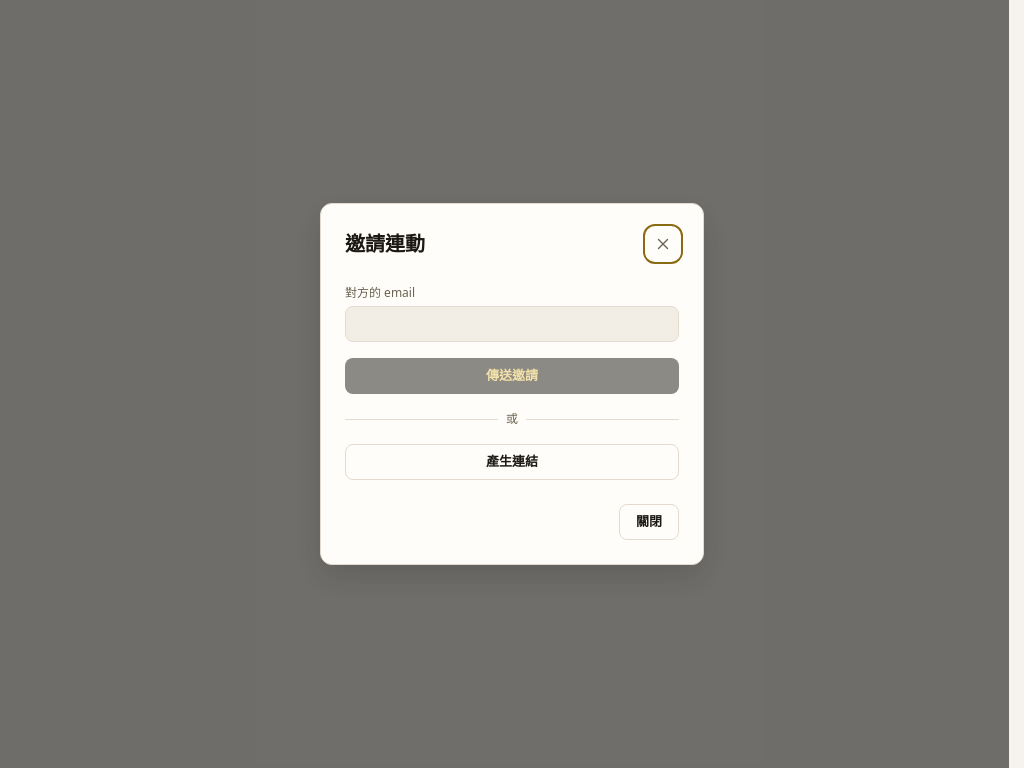
Test: InviteDialog › uses the link-invite wording for USER_NOT_FOUND
The width and height of the screenshot is (1024, 768).
Step 1. Type "missing@example.com" into the field labelled "對方的 email" → (512, 324), box [345,306,679,342]
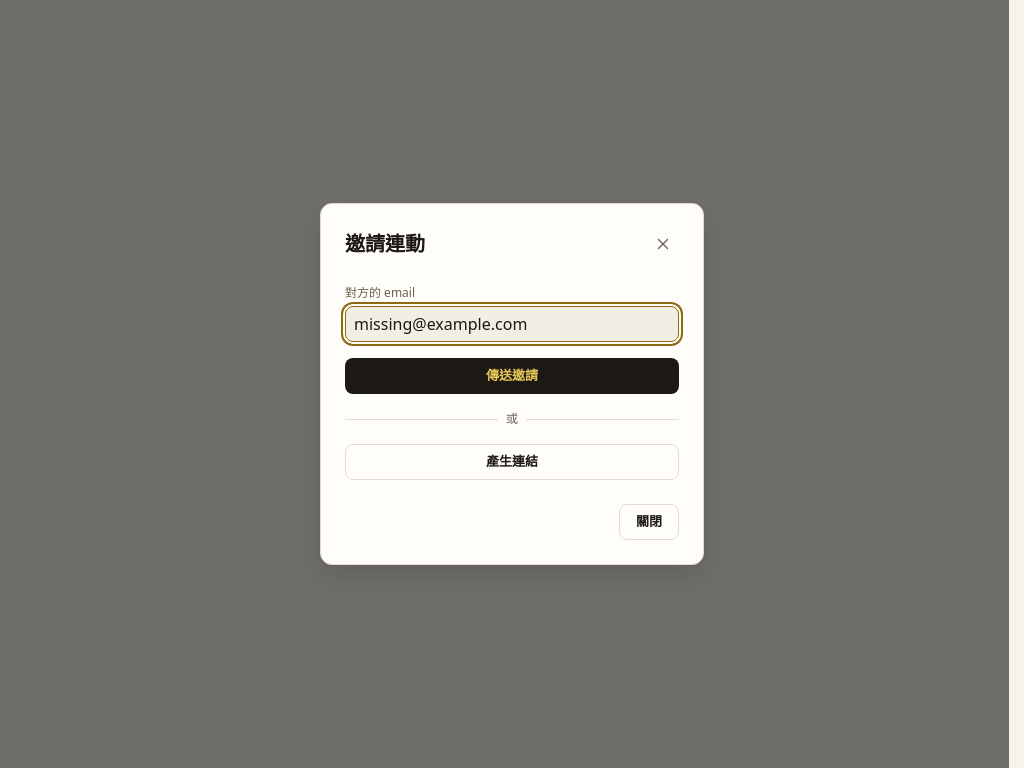
Step 2. Click the button "傳送邀請" → (512, 376), box [345,358,679,394]
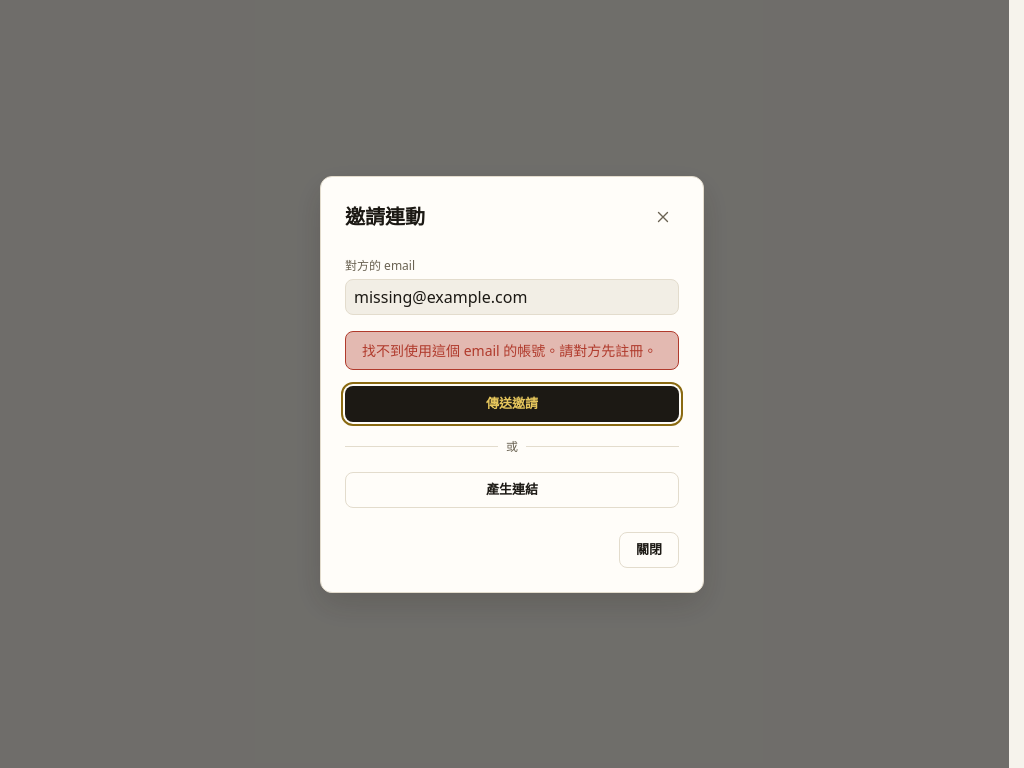
Expected: the message reads "找不到使用這個 email 的帳號。請對方先註冊。", [362,340,657,360]
